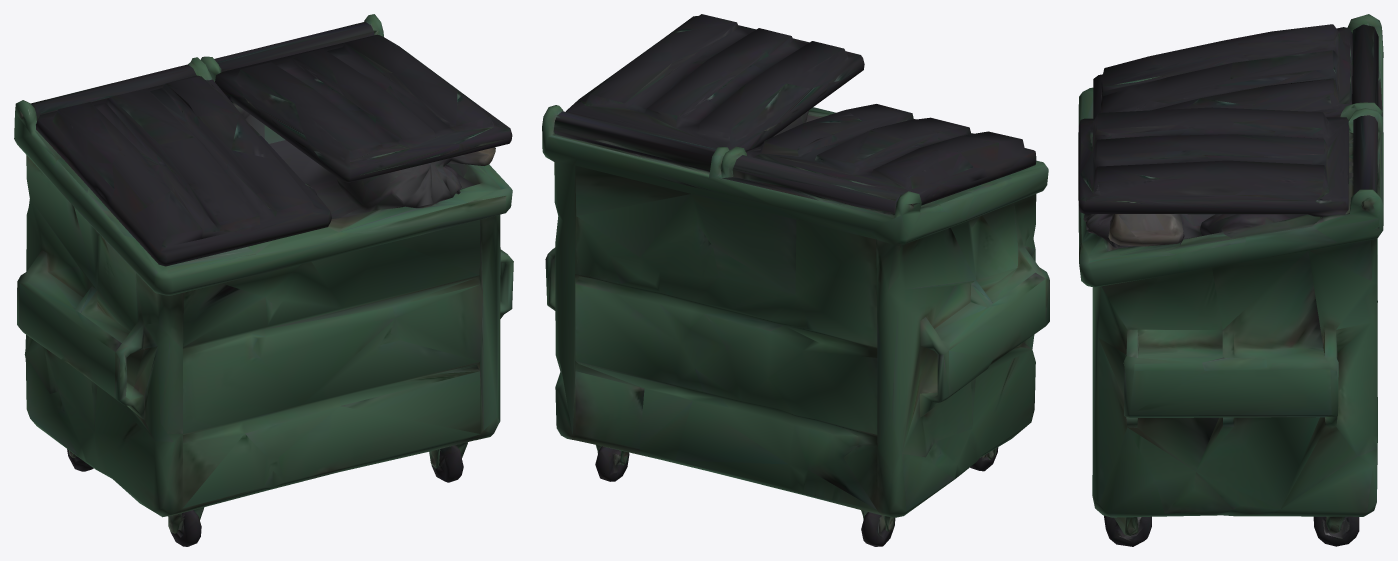
Rendered from dumpster.glb.
3 views of the same model, side by side, from view 1: azimuth 30°, elevation 25°; view 2: azimuth 150°, elevation 25°; view 3: azimuth 270°, elevation 25° (orthographic). The views are drawn at different scales.
Visible parts, largest first — view 1: Mesh_0; view 2: Mesh_0; view 3: Mesh_0.
Boxes of the visible parts, x1=… form: Mesh_0: x1=14, y1=14, x2=513, y2=546; Mesh_0: x1=542, y1=14, x2=1049, y2=546; Mesh_0: x1=1078, y1=14, x2=1383, y2=546.
Size of the model in its own units: 1.33 by 1.2 by 0.8683.
1 material, 1 textured.
